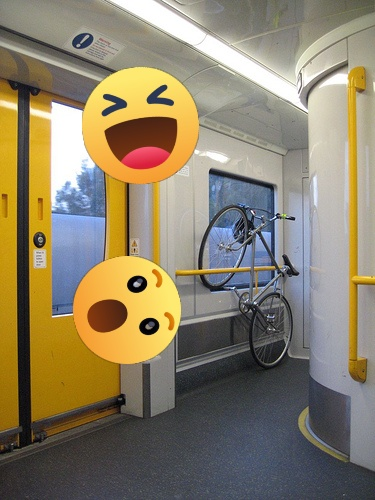haha: (82, 67, 199, 184)
wow: (73, 256, 181, 364)
